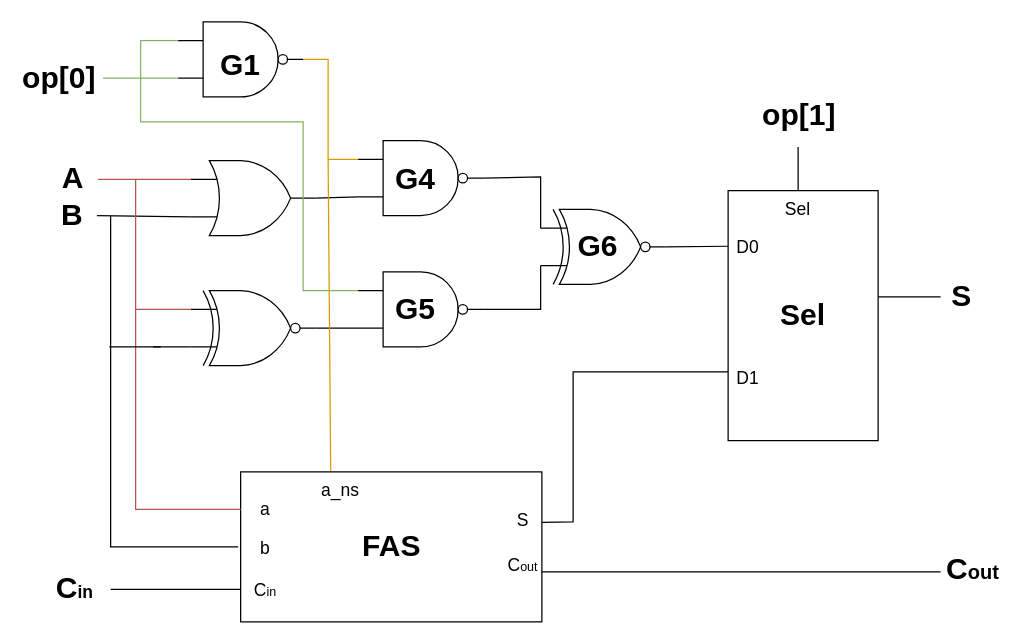
This 1031x644 diagram has some shape labels left out. The centre of each missing label's shape, as x and y in pixels:
G2: the point at 252,197
G3: the point at 252,327
